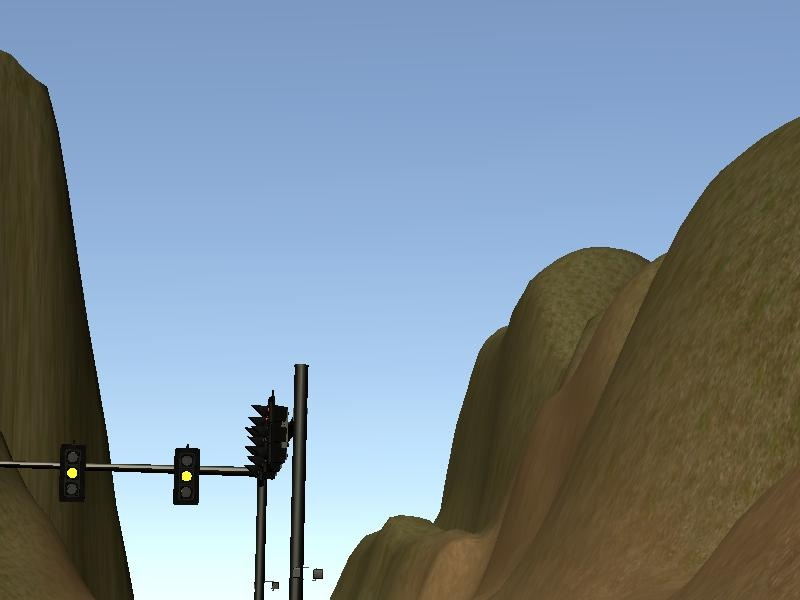yellow: (174, 448, 201, 506), (61, 445, 87, 503)
